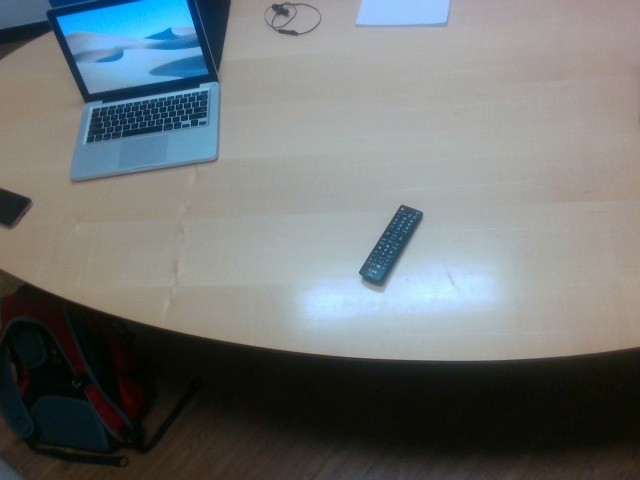remote: (359, 201, 421, 285)
